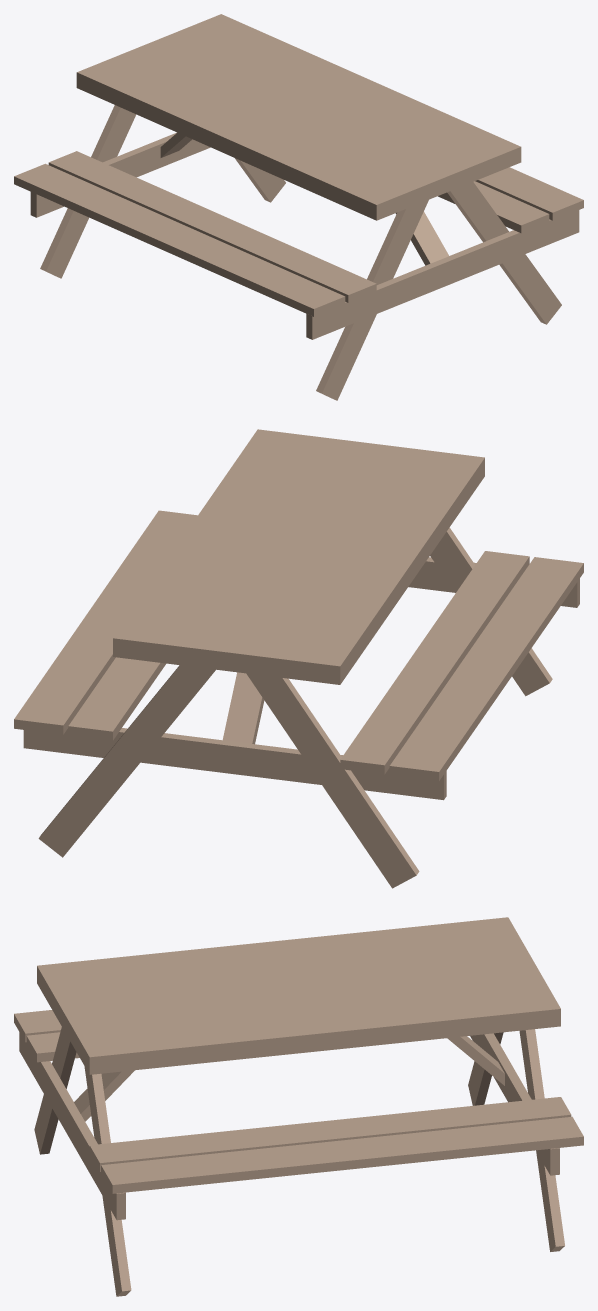
File: wood_bench_7454.glb
The picture shows the model from 3 angles, top to bottom: view 1: azimuth 30°, elevation 25°; view 2: azimuth 150°, elevation 25°; view 3: azimuth 270°, elevation 25°; orthographic projection. The views are drawn at different scales.
Visible parts, largest first — view 1: part_7461, part_7462, part_7460, part_7467, part_7465, part_7466, part_7471, part_7456, part_7473, part_7457, part_7459, part_7472; view 2: part_7461, part_7462, part_7460, part_7456, part_7473, part_7471, part_7472, part_7457, part_7465, part_7458, part_7467; view 3: part_7461, part_7456, part_7457, part_7467, part_7466, part_7472, part_7473, part_7465, part_7462, part_7458, part_7459, part_7471 (+1 smaller).
Part boxes in pixels (x1=…): part_7461: x1=76, y1=14, x2=521, y2=220; part_7462: x1=14, y1=163, x2=345, y2=316; part_7460: x1=48, y1=151, x2=376, y2=302; part_7467: x1=306, y1=210, x2=579, y2=339; part_7465: x1=316, y1=200, x2=428, y2=400; part_7466: x1=447, y1=182, x2=561, y2=324; part_7471: x1=40, y1=105, x2=136, y2=278; part_7456: x1=475, y1=167, x2=583, y2=220; part_7473: x1=30, y1=132, x2=210, y2=217; part_7457: x1=438, y1=181, x2=549, y2=233; part_7459: x1=395, y1=211, x2=448, y2=265; part_7472: x1=235, y1=158, x2=285, y2=202; part_7461: x1=113, y1=429, x2=484, y2=684; part_7462: x1=389, y1=557, x2=583, y2=781; part_7460: x1=340, y1=551, x2=529, y2=774; part_7456: x1=14, y1=510, x2=197, y2=734; part_7473: x1=23, y1=728, x2=446, y2=800; part_7471: x1=246, y1=673, x2=419, y2=888; part_7472: x1=38, y1=665, x2=215, y2=857; part_7457: x1=68, y1=657, x2=165, y2=740; part_7465: x1=430, y1=527, x2=552, y2=696; part_7458: x1=222, y1=672, x2=264, y2=744; part_7467: x1=408, y1=557, x2=579, y2=607; part_7461: x1=37, y1=917, x2=560, y2=1074; part_7456: x1=101, y1=1116, x2=583, y2=1193; part_7457: x1=89, y1=1097, x2=571, y2=1171; part_7467: x1=19, y1=1032, x2=125, y2=1220; part_7466: x1=84, y1=1066, x2=131, y2=1296; part_7472: x1=519, y1=1029, x2=564, y2=1251; part_7473: x1=470, y1=1033, x2=559, y2=1175; part_7465: x1=34, y1=1027, x2=76, y2=1154; part_7462: x1=14, y1=1010, x2=61, y2=1042; part_7458: x1=447, y1=1036, x2=504, y2=1085; part_7459: x1=74, y1=1070, x2=134, y2=1121; part_7471: x1=468, y1=1032, x2=503, y2=1105.
Size of the model in its own units: 10.72 by 4.98 by 11.75.
